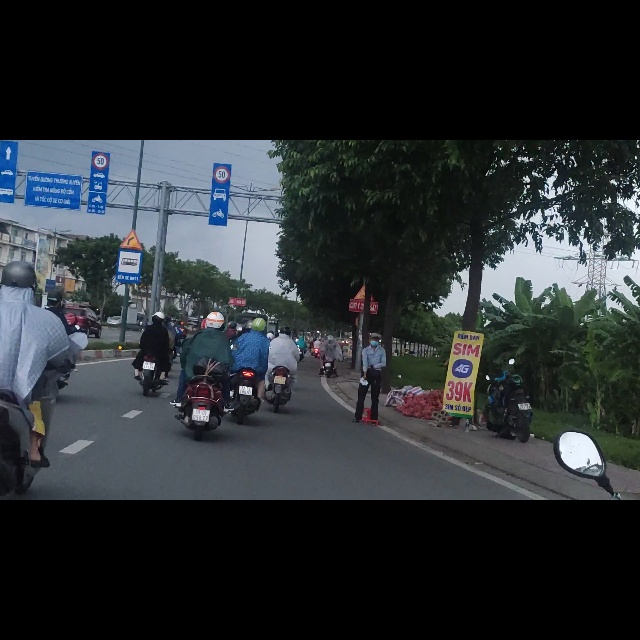bien_nguy_hiem: (116, 195, 143, 254), (118, 156, 143, 195), (213, 45, 230, 77), (92, 23, 108, 53)
